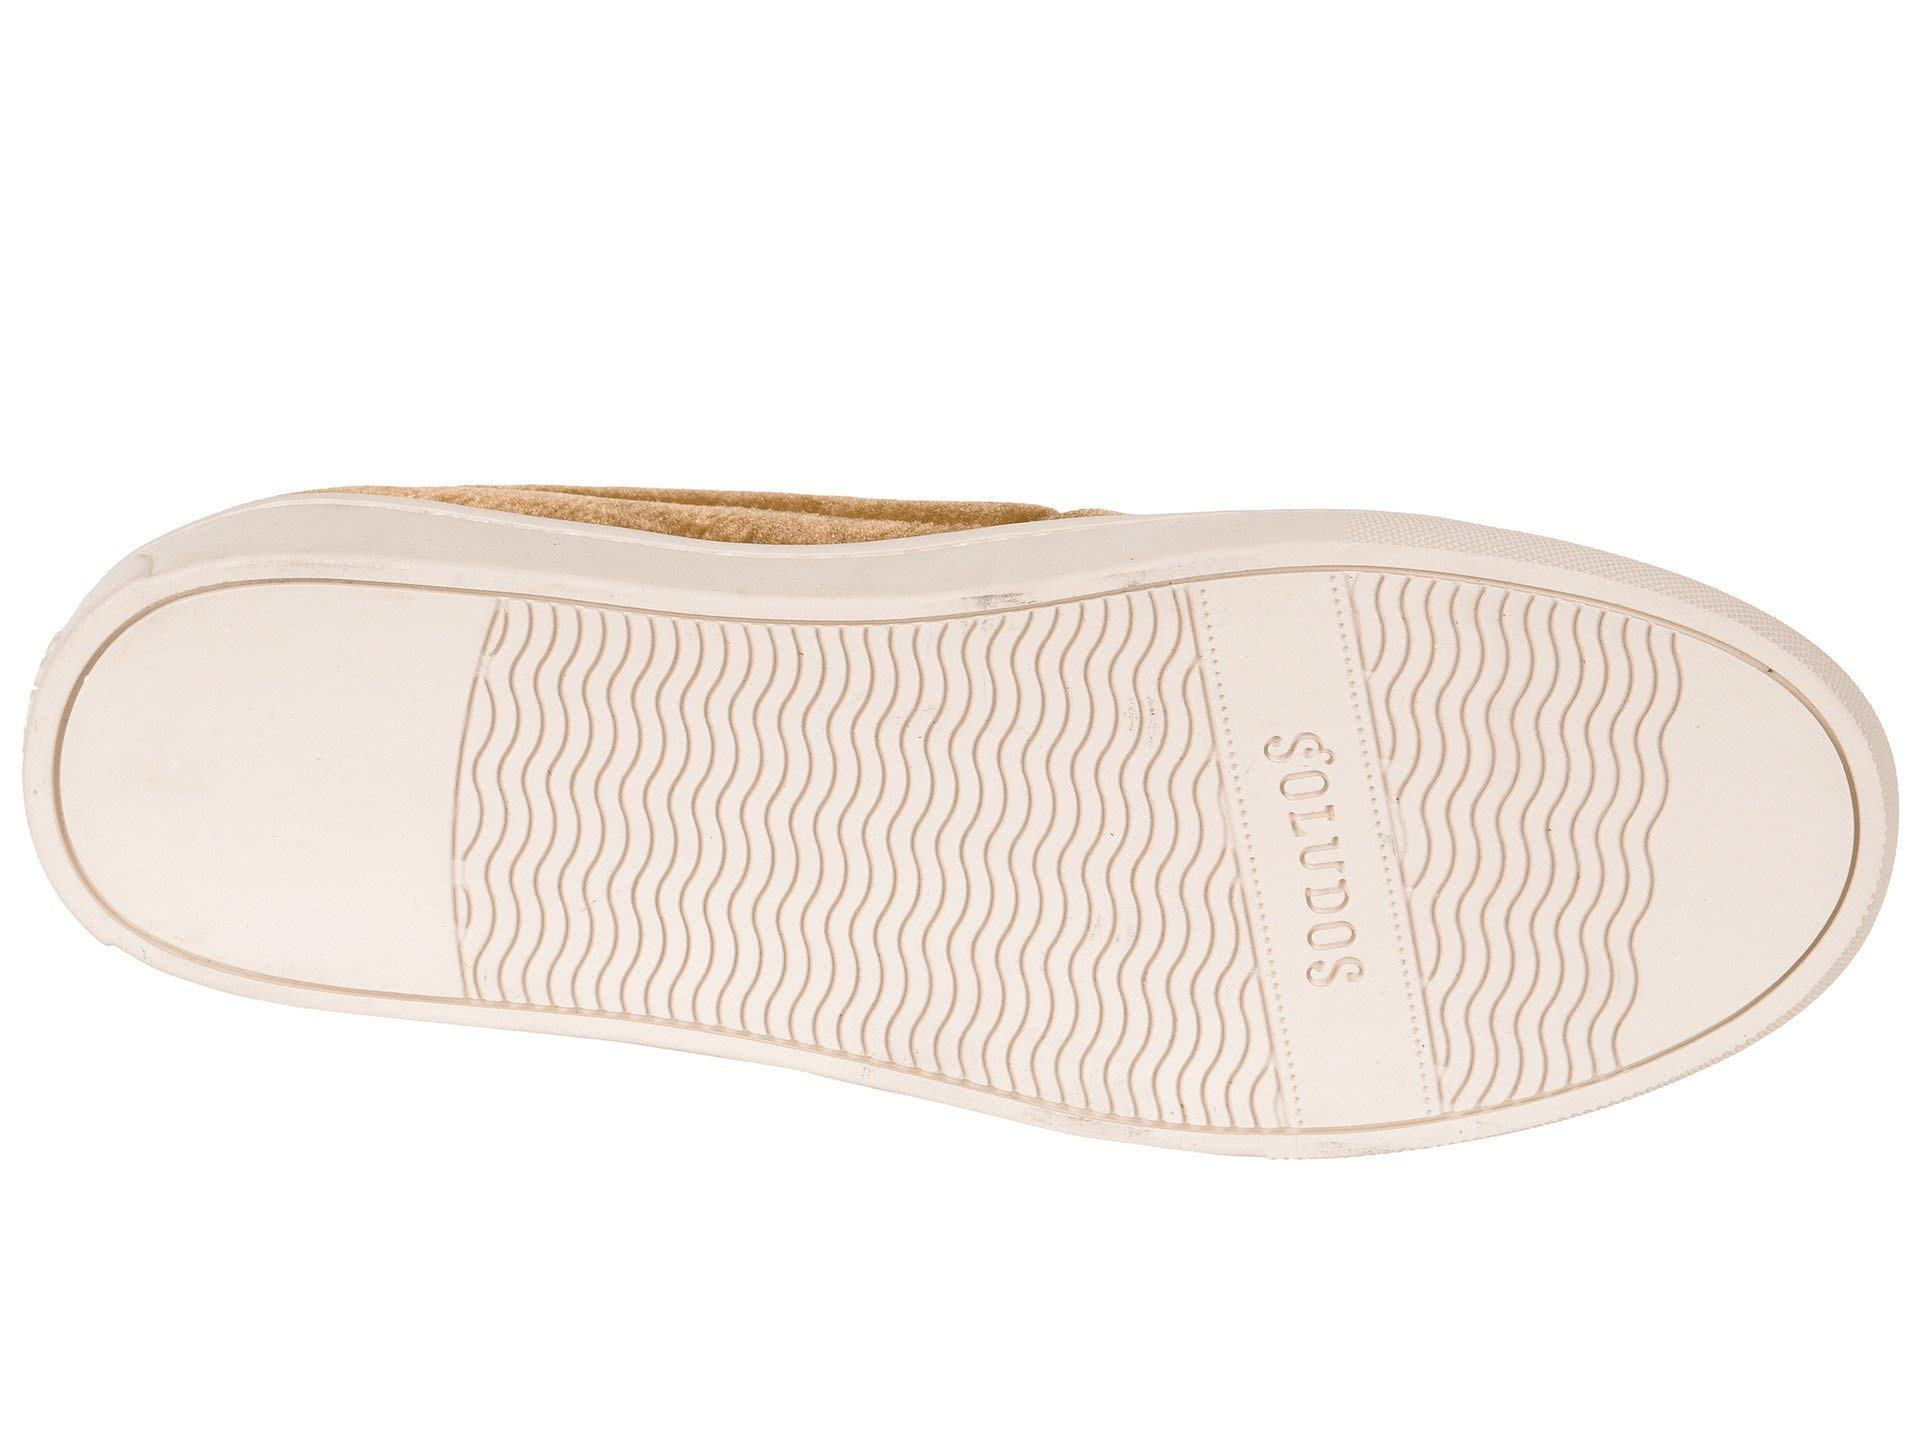chevron: (618, 628, 1051, 1021), (1191, 690, 1604, 1063)
circle: (1191, 690, 1604, 1063)
text: (1191, 690, 1604, 1063)
